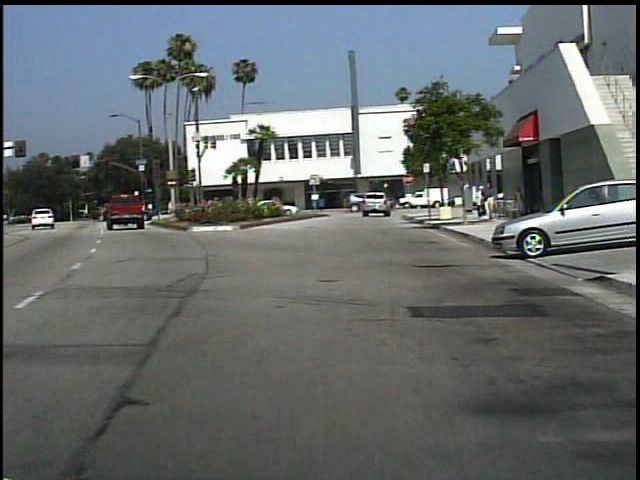person: (481, 182, 497, 224), (510, 184, 528, 219), (370, 191, 391, 220), (473, 184, 485, 218)
